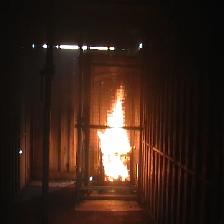fire: (97, 83, 132, 182)
